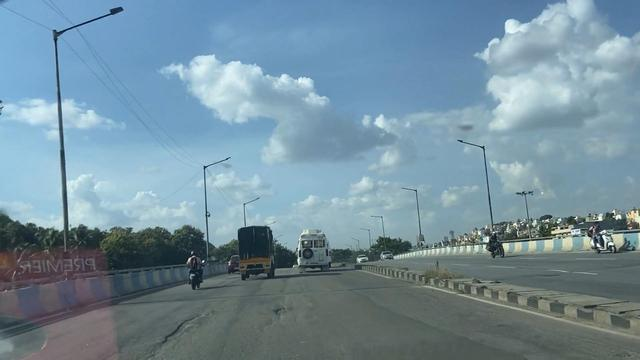HMV: (231, 219, 278, 275), (300, 229, 332, 275)
LMV: (178, 255, 211, 285)
RoadDamages: (168, 298, 222, 360), (271, 290, 303, 330)
